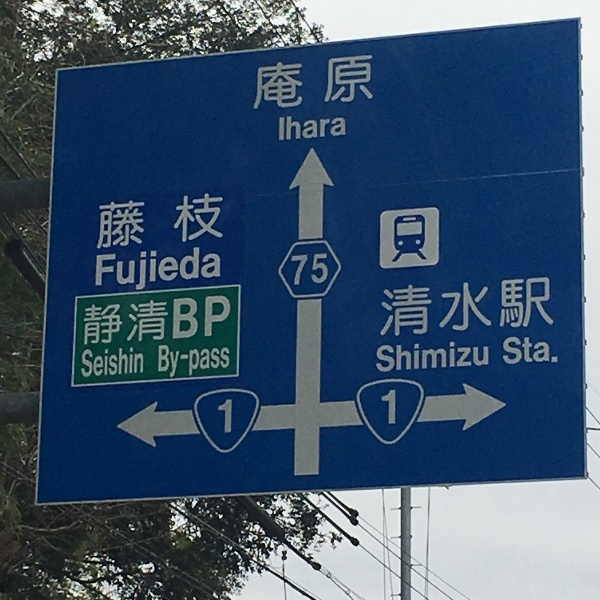text: (385, 276, 400, 339), (401, 276, 416, 339), (417, 276, 432, 339), (433, 276, 448, 339), (449, 276, 464, 339), (465, 276, 480, 339), (481, 276, 496, 339), (497, 276, 512, 339), (513, 276, 528, 339), (529, 276, 544, 339), (113, 194, 128, 250), (129, 194, 144, 250), (145, 194, 160, 250), (161, 194, 176, 250), (177, 194, 192, 250), (193, 194, 208, 250), (209, 194, 224, 250), (257, 54, 272, 109), (273, 54, 288, 109), (289, 54, 304, 109), (305, 54, 320, 109), (321, 54, 336, 109), (337, 54, 352, 109), (353, 54, 368, 109), (97, 246, 112, 296), (113, 246, 128, 296), (129, 246, 144, 296), (145, 246, 160, 296), (161, 246, 176, 296), (177, 246, 192, 296), (193, 246, 208, 296), (97, 296, 112, 345), (113, 296, 128, 345), (129, 296, 144, 345), (145, 296, 160, 345), (161, 296, 176, 345), (177, 296, 192, 345), (193, 296, 208, 345), (209, 296, 224, 345), (99, 194, 112, 250), (209, 246, 221, 296), (85, 296, 96, 345), (545, 276, 553, 339), (161, 346, 176, 379), (177, 346, 192, 379), (193, 346, 208, 379), (209, 346, 224, 379), (305, 253, 320, 285), (385, 340, 400, 372), (401, 340, 416, 372), (417, 340, 432, 372), (433, 340, 448, 372), (449, 340, 464, 372), (465, 340, 480, 372), (81, 348, 96, 379), (97, 348, 112, 379), (113, 348, 128, 379), (129, 348, 144, 379), (513, 337, 528, 365), (529, 337, 544, 365), (292, 253, 304, 285), (289, 116, 304, 141), (305, 116, 320, 141), (321, 116, 336, 141), (385, 390, 396, 424), (545, 337, 558, 365), (369, 54, 374, 109), (225, 399, 233, 433), (321, 253, 329, 285), (481, 340, 489, 372), (225, 296, 230, 345), (337, 116, 346, 141), (504, 337, 512, 365), (377, 340, 384, 372), (218, 399, 224, 433), (280, 116, 288, 141), (225, 346, 230, 379), (382, 276, 384, 339), (382, 390, 384, 424), (158, 346, 160, 379)
